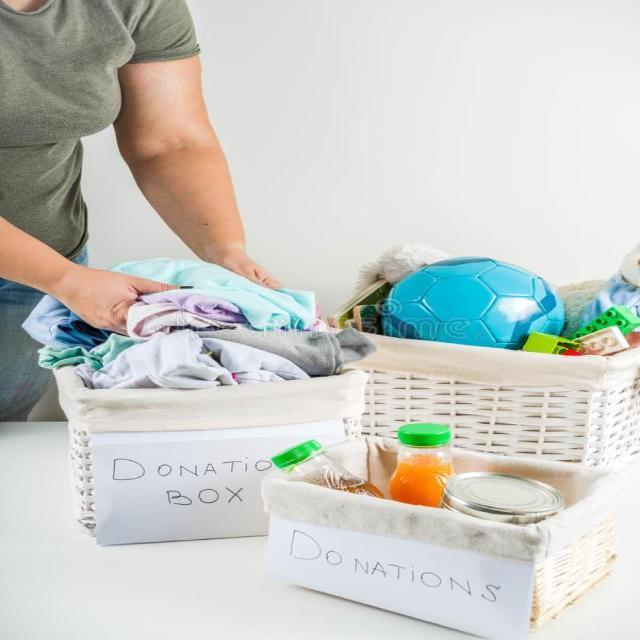clothes: (142, 312, 314, 384)
